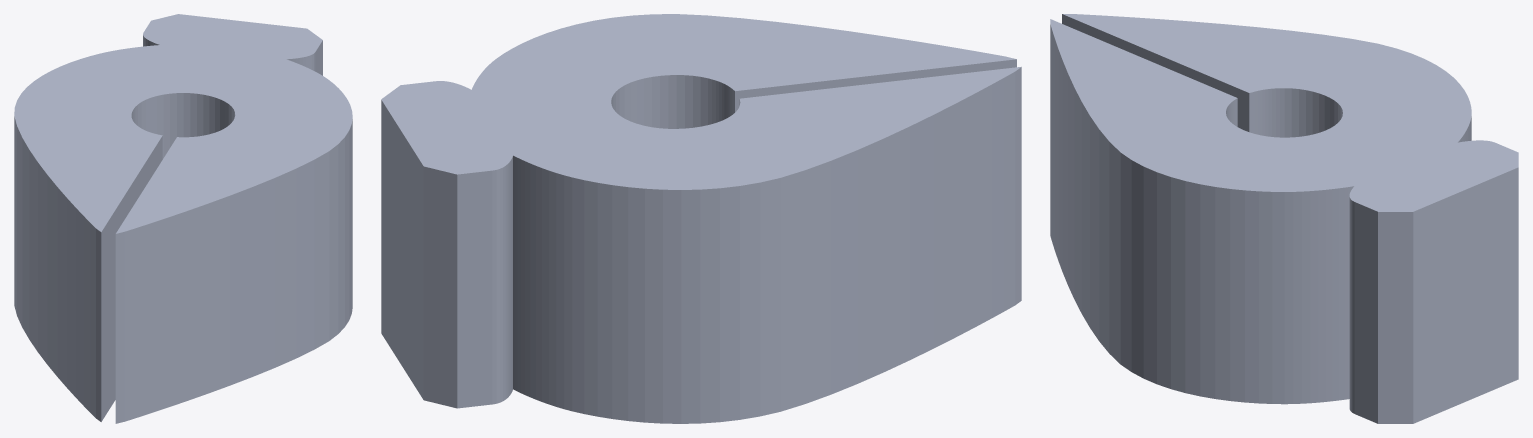
The model's file is EpicSnicket.glb.
3 renders of one model, left to right at view 1: azimuth 30°, elevation 25°; view 2: azimuth 150°, elevation 25°; view 3: azimuth 270°, elevation 25°, orthographic. The views are drawn at different scales.
Parts seen in each view (by area): view 1: Mesh_Mesh_head_geo.001_lambert2SG.001; view 2: Mesh_Mesh_head_geo.001_lambert2SG.001; view 3: Mesh_Mesh_head_geo.001_lambert2SG.001.
Boxes of the visible parts, x1,y1,x2,y2 form: Mesh_Mesh_head_geo.001_lambert2SG.001: (14,14,352,423); Mesh_Mesh_head_geo.001_lambert2SG.001: (381,14,1021,423); Mesh_Mesh_head_geo.001_lambert2SG.001: (1050,14,1518,423).
Bounding box in the file's own units: 20 × 10 × 20.
